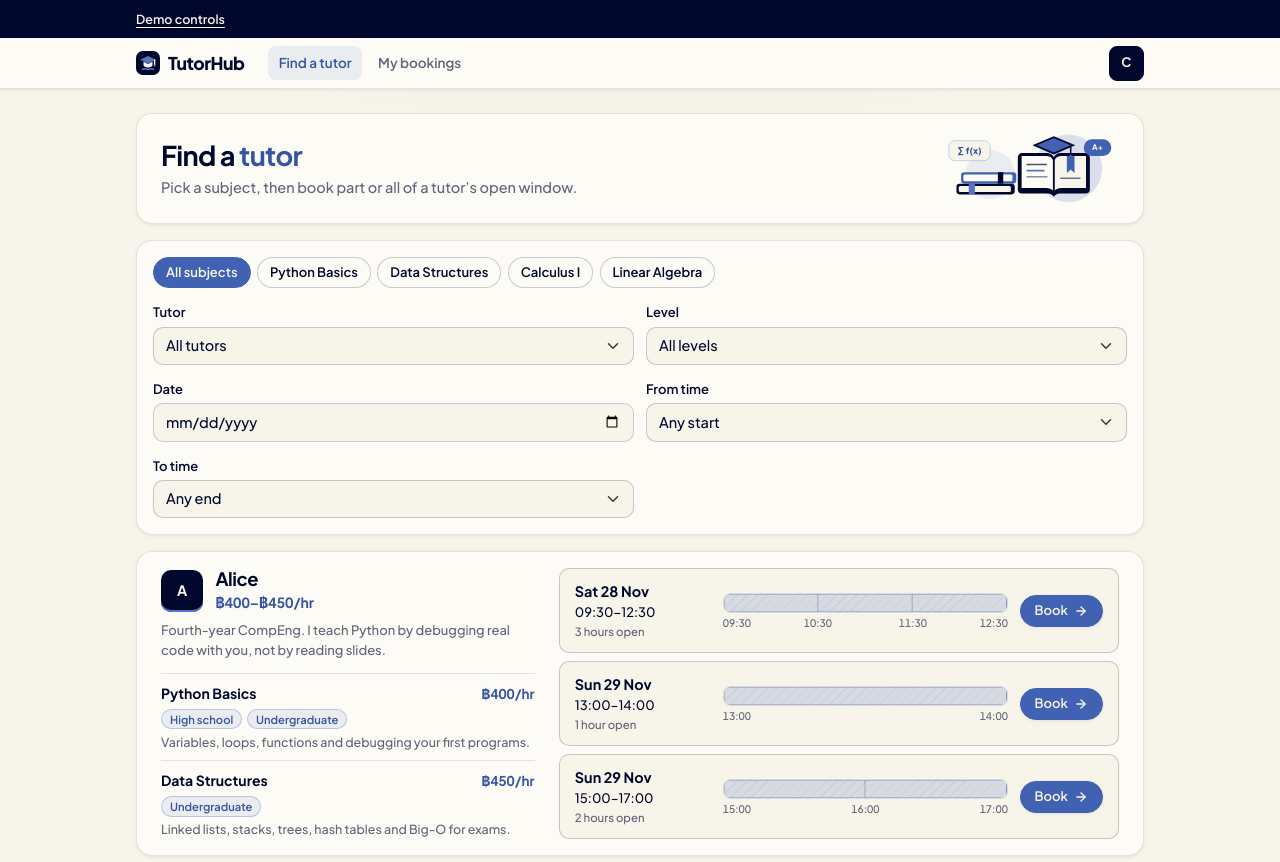
Test: student discovery filters (FR-07, SDS §4.2) › filters open windows by tutor and date and resets filters
The width and height of the screenshot is (1280, 862).
Select "Bob" in the dropdown labelled "Tutor" at (394, 346), box [153,326,634,365]
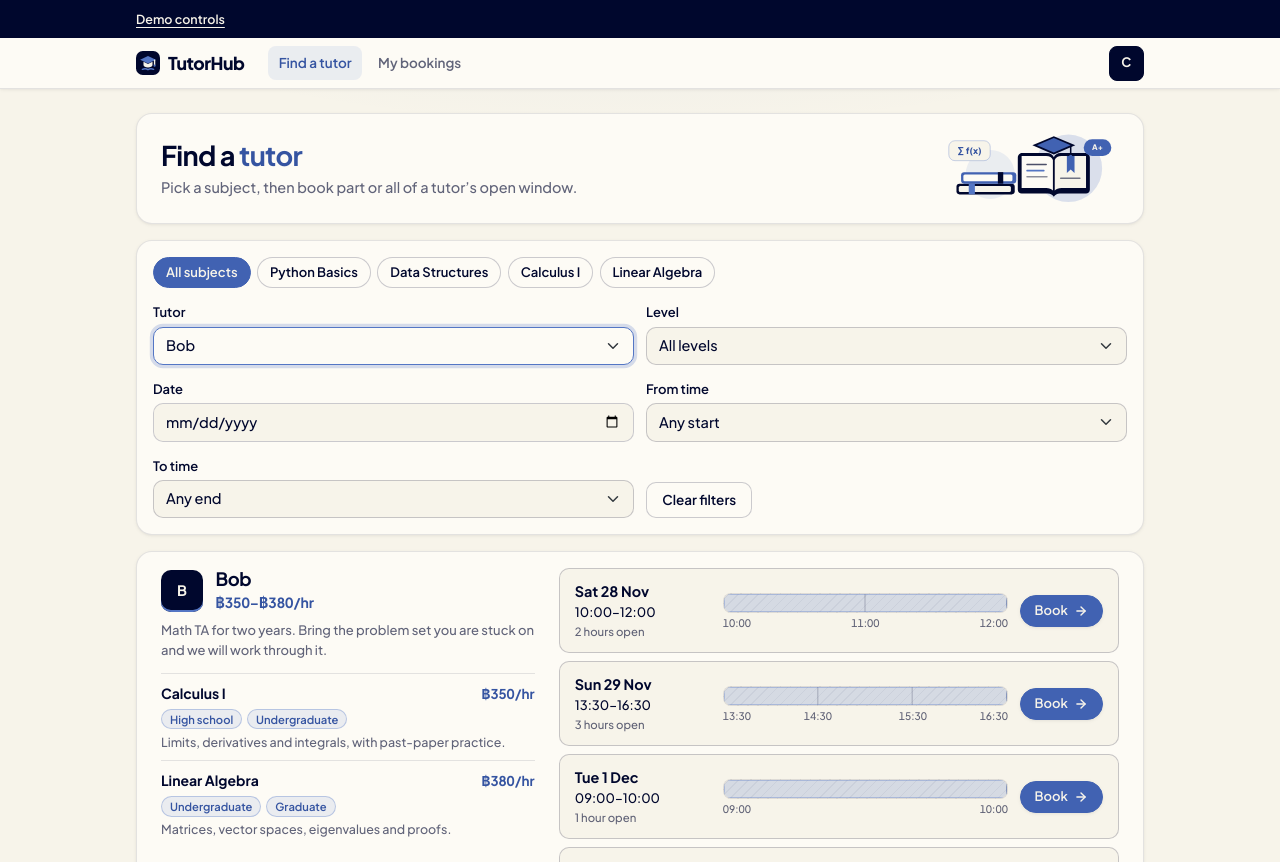
Expected: the heading "Bob" is shown, [215,567,251,590]
Result: the heading "Alice" is gone
Click the button "Clear filters".
click(699, 500)  # box [646,482,752,518]
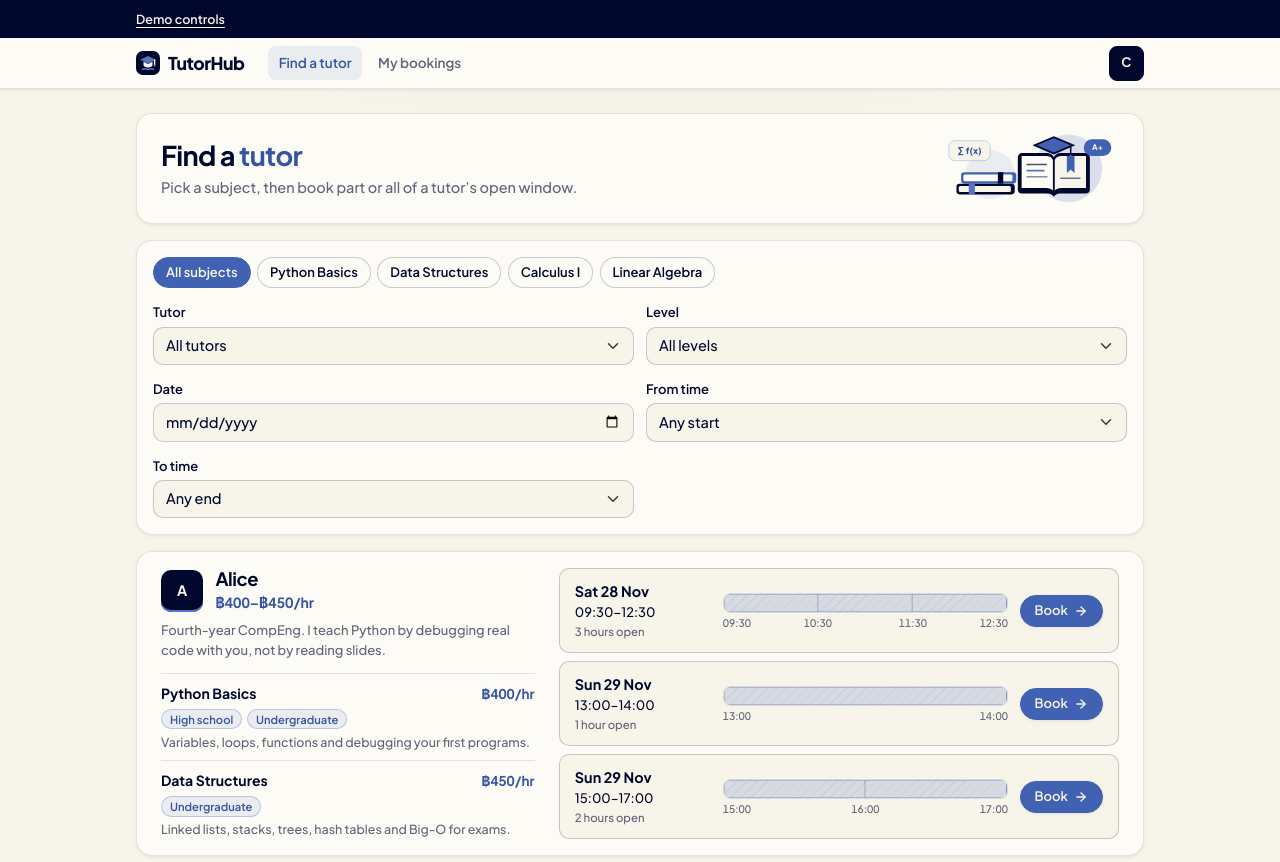
Result: the heading "Alice" is shown at [215,567,258,590]
